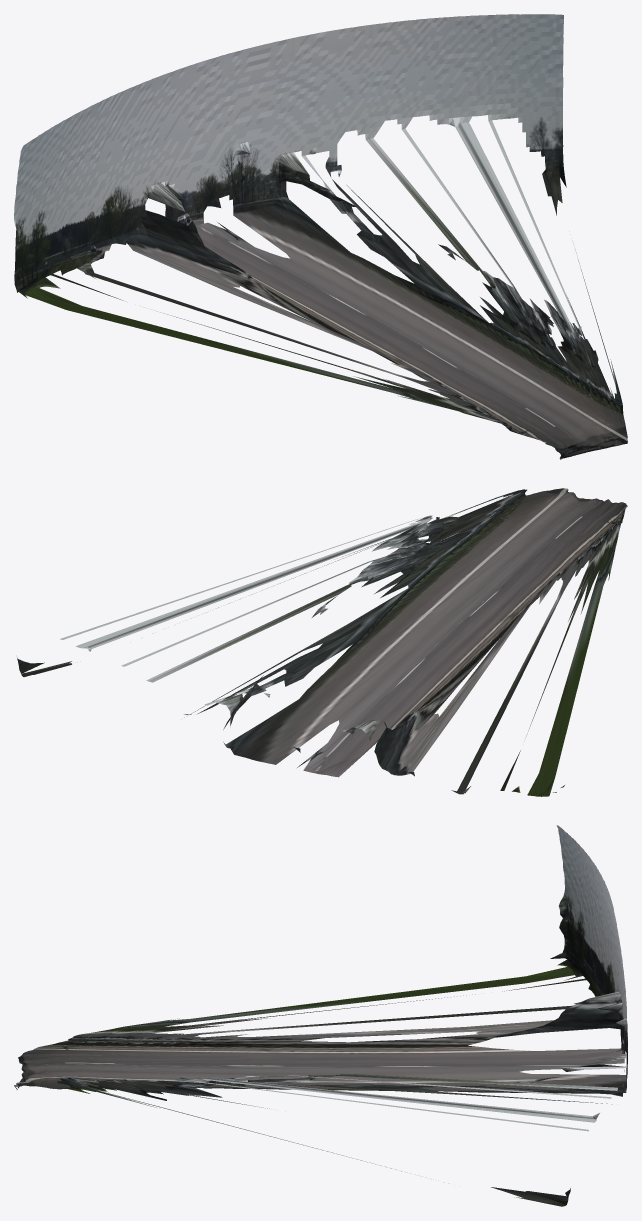
3 renders of one model, top to bottom at view 1: azimuth 30°, elevation 25°; view 2: azimuth 150°, elevation 25°; view 3: azimuth 270°, elevation 25°, orthographic. The views are drawn at different scales.
Parts seen in each view (by area): view 1: defaultobject; view 2: defaultobject; view 3: defaultobject.
Boxes of the visible parts, x1=… form: defaultobject: x1=14, y1=14, x2=627, y2=459; defaultobject: x1=17, y1=488, x2=627, y2=796; defaultobject: x1=14, y1=825, x2=627, y2=1206.
Bounding box in the file's own units: 41.11 × 12.64 × 44.54.
1 material, 1 textured.
